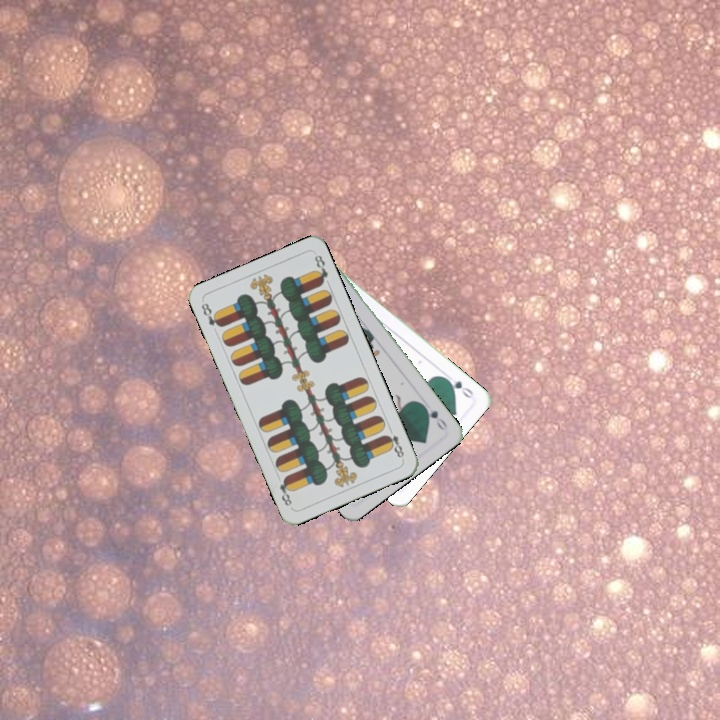E8: (381, 423, 407, 460), (197, 299, 225, 330)
GO: (418, 400, 450, 433), (440, 373, 476, 401)
